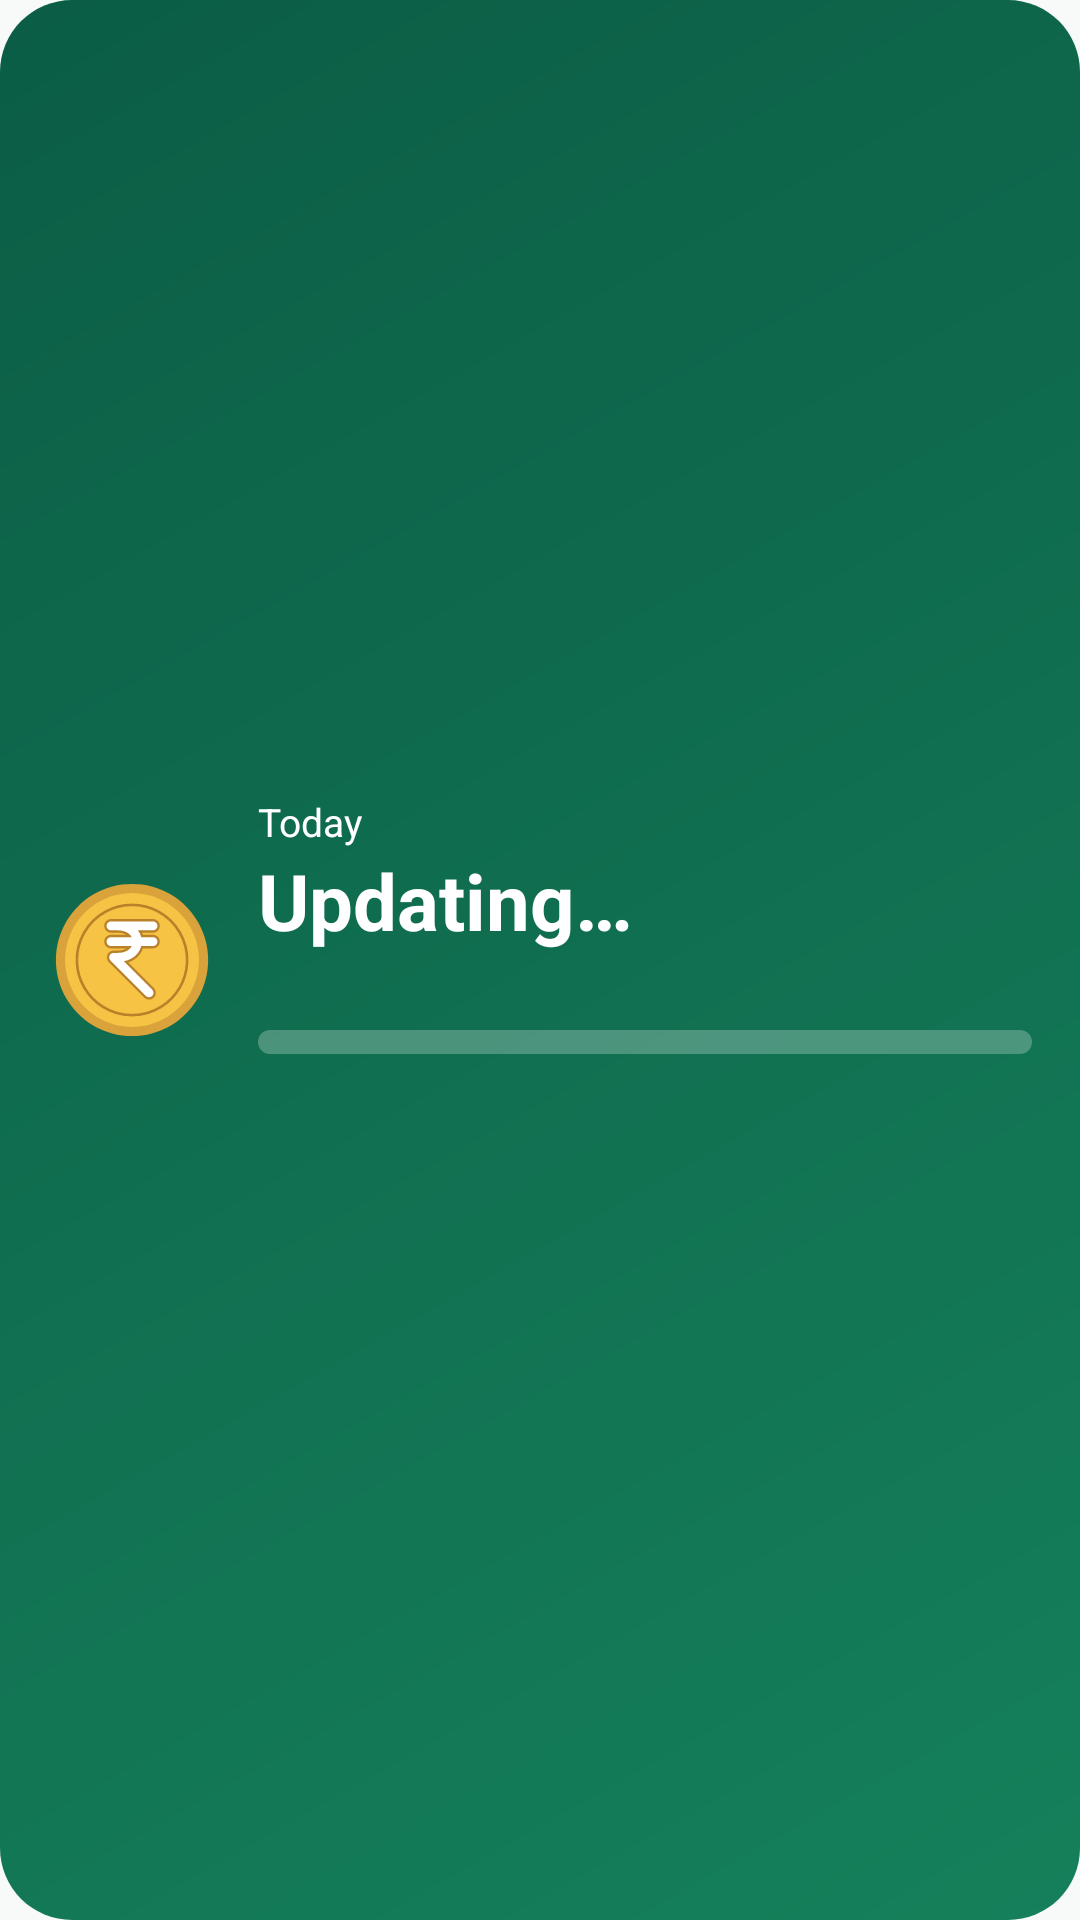

Named icons in this screenshot (1080px×1920px) and their bounding boxes, (x1,y1,x2,y2):
SpendSense gold coin: (56,884,209,1036)
